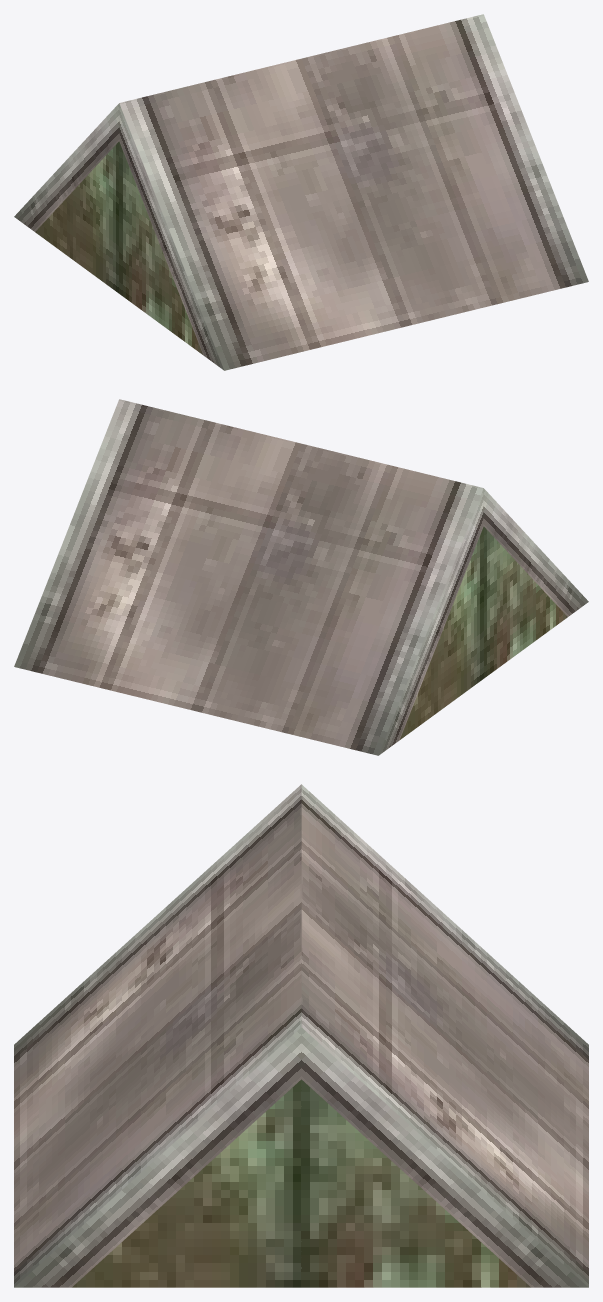
File: kenney-retro-urban-wall-b-roof.glb
The picture shows the model from 3 angles, top to bottom: view 1: azimuth 30°, elevation 25°; view 2: azimuth 150°, elevation 25°; view 3: azimuth 270°, elevation 25°; orthographic projection. The views are drawn at different scales.
Parts seen in each view (by area): view 1: wall-b-roof; view 2: wall-b-roof; view 3: wall-b-roof.
Part boxes in pixels (left/top/right/bottom): wall-b-roof: left=14, top=14, right=588, bottom=370; wall-b-roof: left=14, top=399, right=588, bottom=755; wall-b-roof: left=14, top=784, right=588, bottom=1287.
Size of the model in its own units: 1 by 0.5001 by 1.
3 materials, 3 textured.
